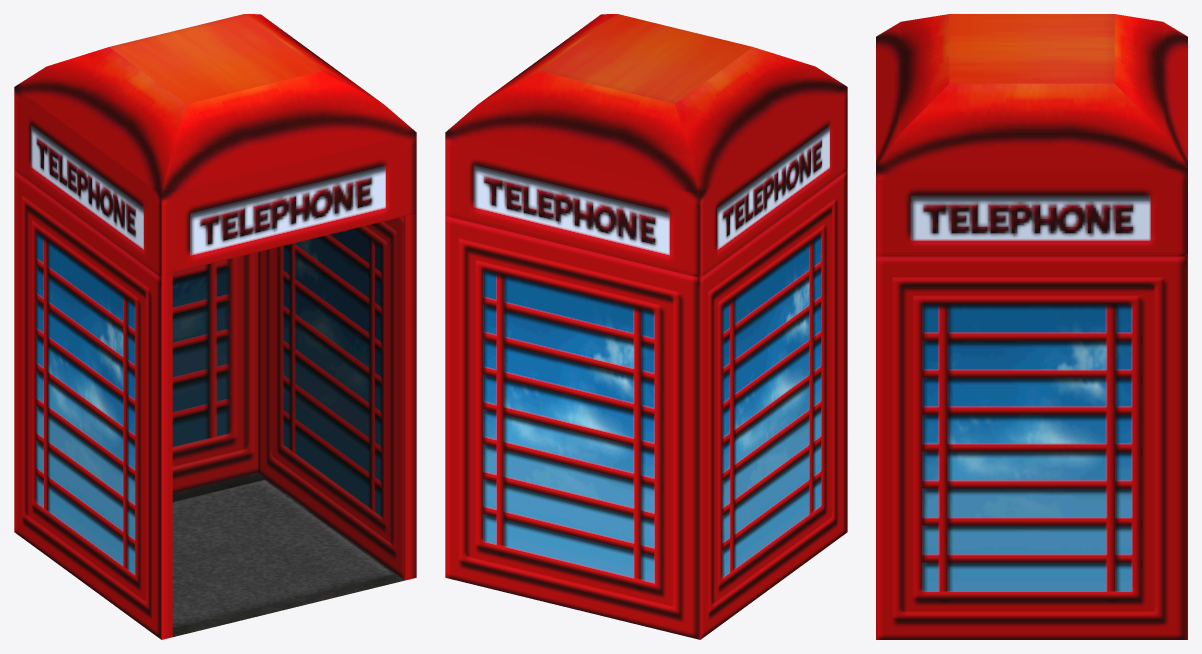
File: phone.glb
3 renders of one model, left to right at view 1: azimuth 30°, elevation 25°; view 2: azimuth 150°, elevation 25°; view 3: azimuth 270°, elevation 25°, orthographic. The views are drawn at different scales.
Visible parts, largest first — view 1: phone; view 2: phone; view 3: phone.
Part boxes in pixels (left/top/right/bottom): phone: left=14, top=14, right=416, bottom=639; phone: left=445, top=14, right=847, bottom=639; phone: left=876, top=14, right=1187, bottom=639.
Size of the model in its own units: 260 by 482 by 260.
3 materials, 3 textured.
